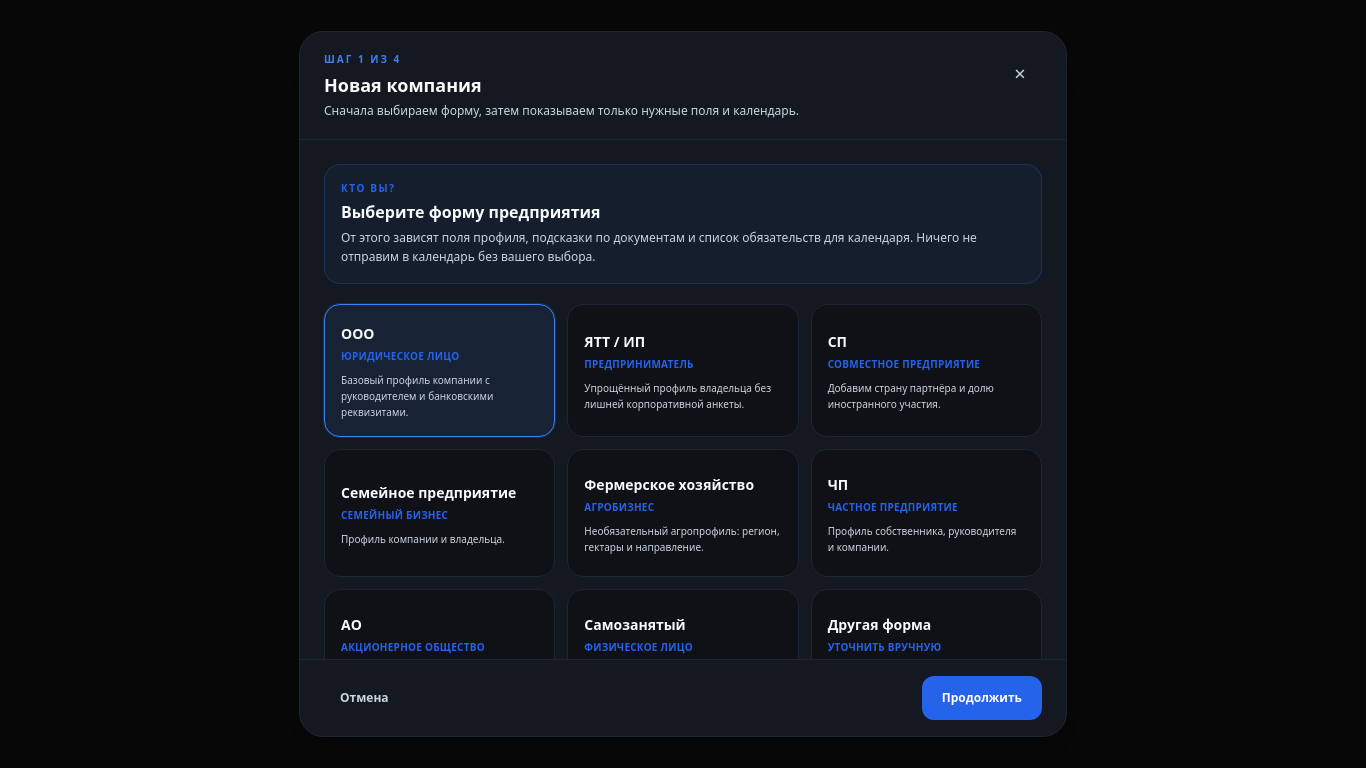
CompanyProfileWizard obligation decisions › shows inline field errors and focuses the first invalid company field
Click the button "Продолжить".
click(982, 698)  # box 922,676 -> 1042,720
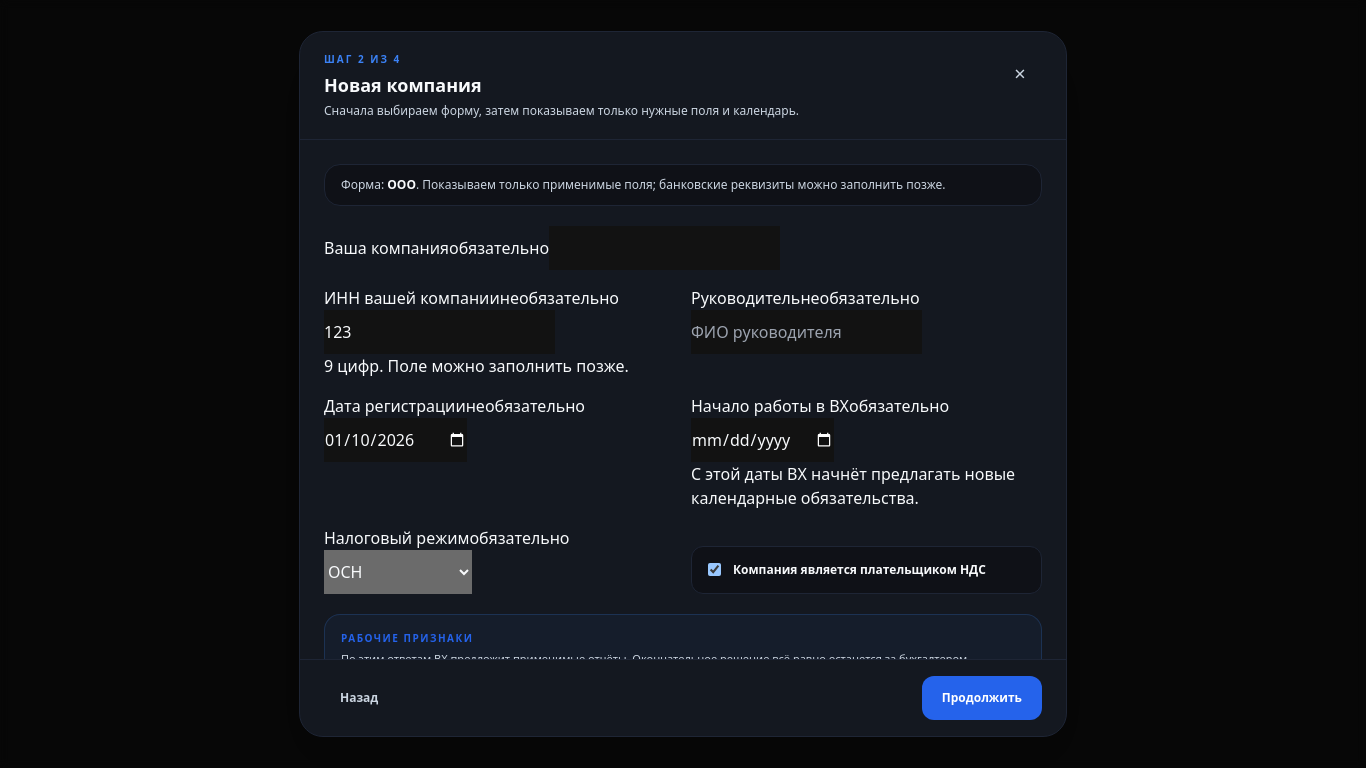
Click the button "Продолжить".
click(982, 698)  # box 922,676 -> 1042,720
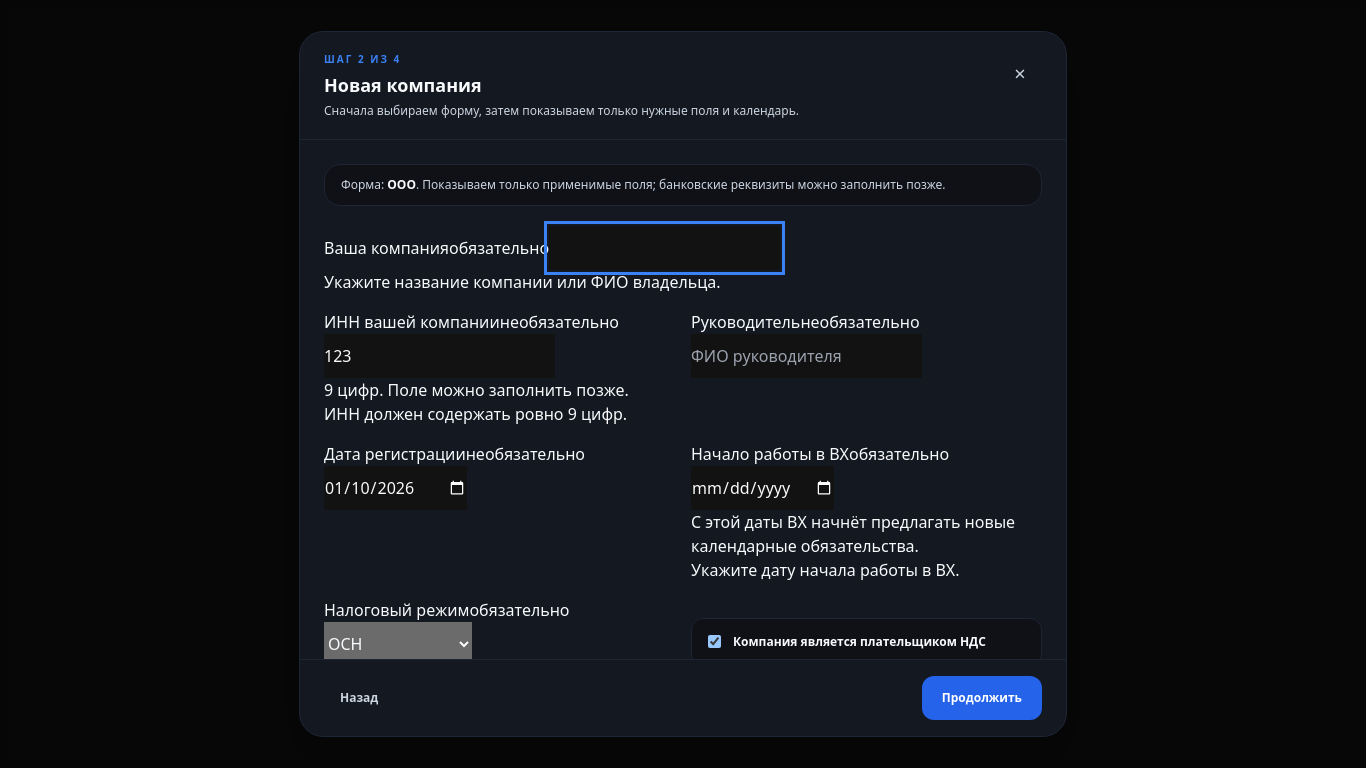
Now the text "Укажите название компании или ФИО владельца." is shown, box 324,271 -> 720,293
Now the text "ИНН должен содержать ровно 9 цифр." is shown, box 324,402 -> 675,426
Now the text "Укажите дату начала работы в BX." is shown, box 691,559 -> 960,581
